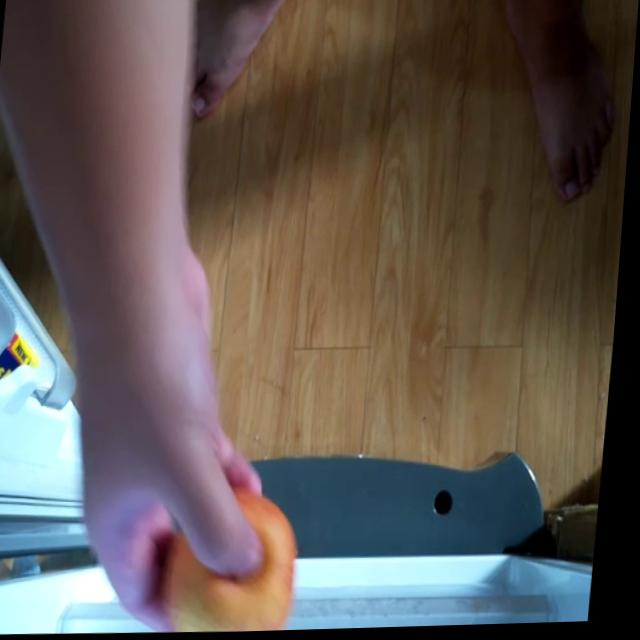apple: (167, 484, 312, 635)
